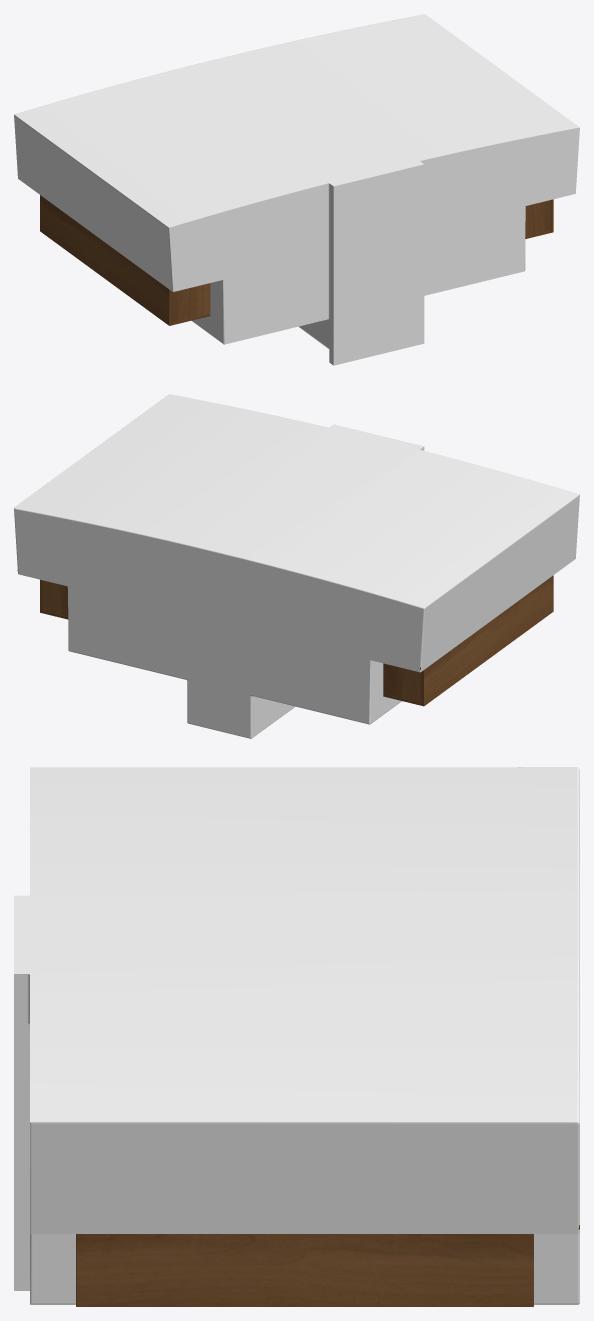
The model's file is spavacaProba-1767755084843-958075602.gltf.
3 views of the same model, one above another, from view 1: azimuth 30°, elevation 25°; view 2: azimuth 150°, elevation 25°; view 3: azimuth 270°, elevation 25° (orthographic). The views are drawn at different scales.
Parts seen in each view (by area): view 1: default; view 2: default; view 3: default.
Boxes of the visible parts, x1=… form: default: x1=14, y1=14, x2=579, y2=365; default: x1=14, y1=394, x2=579, y2=738; default: x1=14, y1=767, x2=579, y2=1306.
Size of the model in its own units: 3.18 by 1.34 by 2.14.
3 materials, 2 textured.
